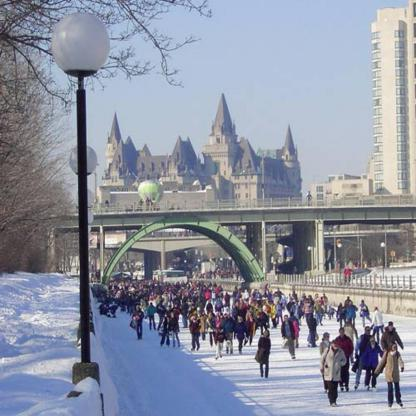face: (371, 339, 376, 346), (334, 343, 339, 349), (393, 345, 397, 352), (367, 329, 371, 335), (342, 331, 346, 337), (265, 332, 269, 336), (210, 314, 213, 319), (286, 317, 289, 322), (327, 335, 330, 340), (391, 326, 394, 331), (239, 317, 242, 321), (292, 314, 294, 319), (261, 309, 264, 312), (168, 307, 170, 311), (229, 315, 231, 319), (307, 301, 309, 305), (291, 299, 293, 303), (172, 315, 174, 318), (166, 315, 168, 318), (250, 315, 252, 318), (278, 304, 280, 307), (375, 309, 377, 311), (297, 302, 298, 305)
